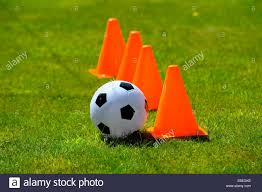cone: (147, 64, 208, 136), (126, 43, 168, 112), (90, 17, 131, 80), (115, 28, 149, 89)
